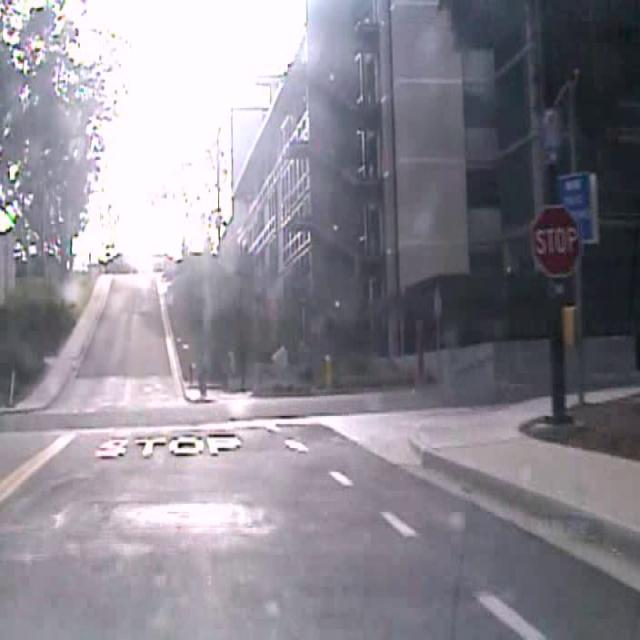stop: (530, 204, 581, 279)
